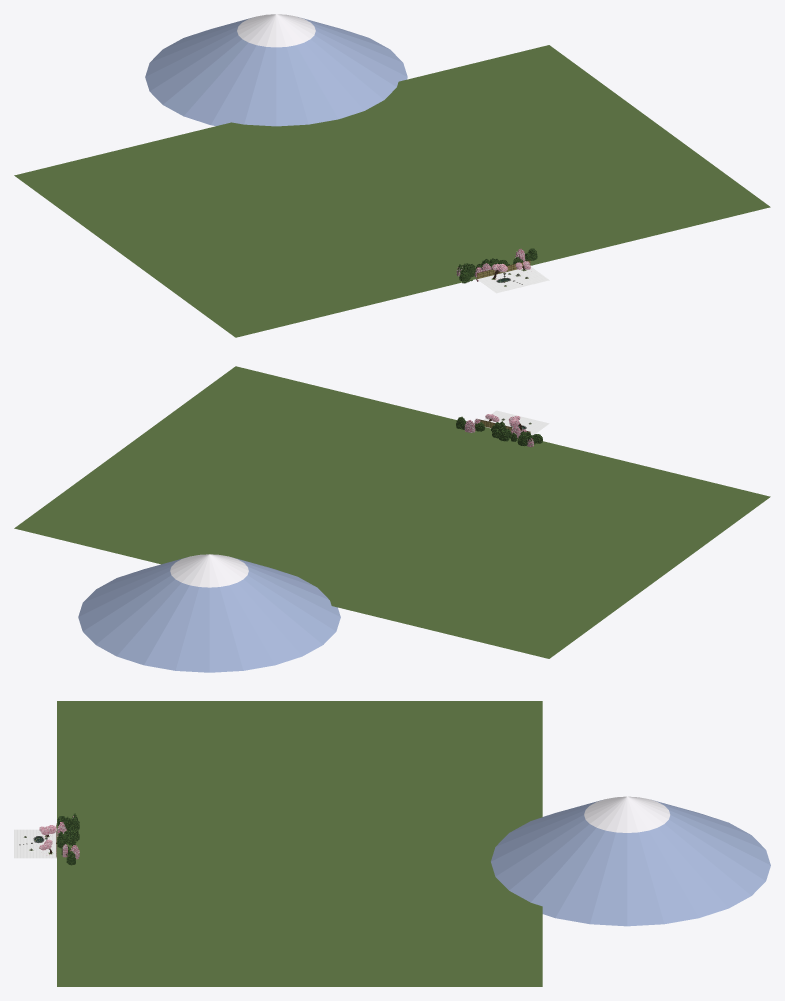
File: zen-garden.glb
The picture shows the model from 3 angles, top to bottom: view 1: azimuth 30°, elevation 25°; view 2: azimuth 150°, elevation 25°; view 3: azimuth 270°, elevation 25°; orthographic projection. The views are drawn at different scales.
Visible parts, largest first — view 1: ZG_FarGround, ZG_Mountain, ZG_Sand, ZG_Backdrop; view 2: ZG_FarGround, ZG_Mountain, ZG_Backdrop, ZG_Sand; view 3: ZG_FarGround, ZG_Mountain, ZG_Sand, ZG_Backdrop.
Part boxes in pixels (<box>): ZG_FarGround: <box>14,45,770,337</box>; ZG_Mountain: <box>145,14,407,126</box>; ZG_Sand: <box>477,267,549,293</box>; ZG_Backdrop: <box>456,248,537,283</box>; ZG_FarGround: <box>14,366,770,658</box>; ZG_Mountain: <box>78,554,340,672</box>; ZG_Backdrop: <box>456,416,542,447</box>; ZG_Sand: <box>483,410,549,435</box>; ZG_FarGround: <box>57,701,542,986</box>; ZG_Mountain: <box>491,796,770,926</box>; ZG_Sand: <box>14,829,56,858</box>; ZG_Backdrop: <box>56,813,79,865</box>.
Size of what is drawn, in the model's own units: 160 by 18.82 by 179.
